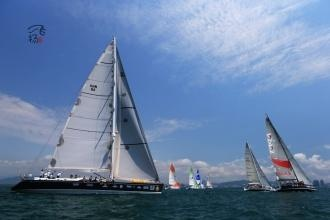fanchuan: (10, 39, 164, 191), (262, 113, 322, 191), (239, 138, 278, 195), (167, 159, 183, 191), (187, 163, 204, 191), (204, 171, 217, 190)
